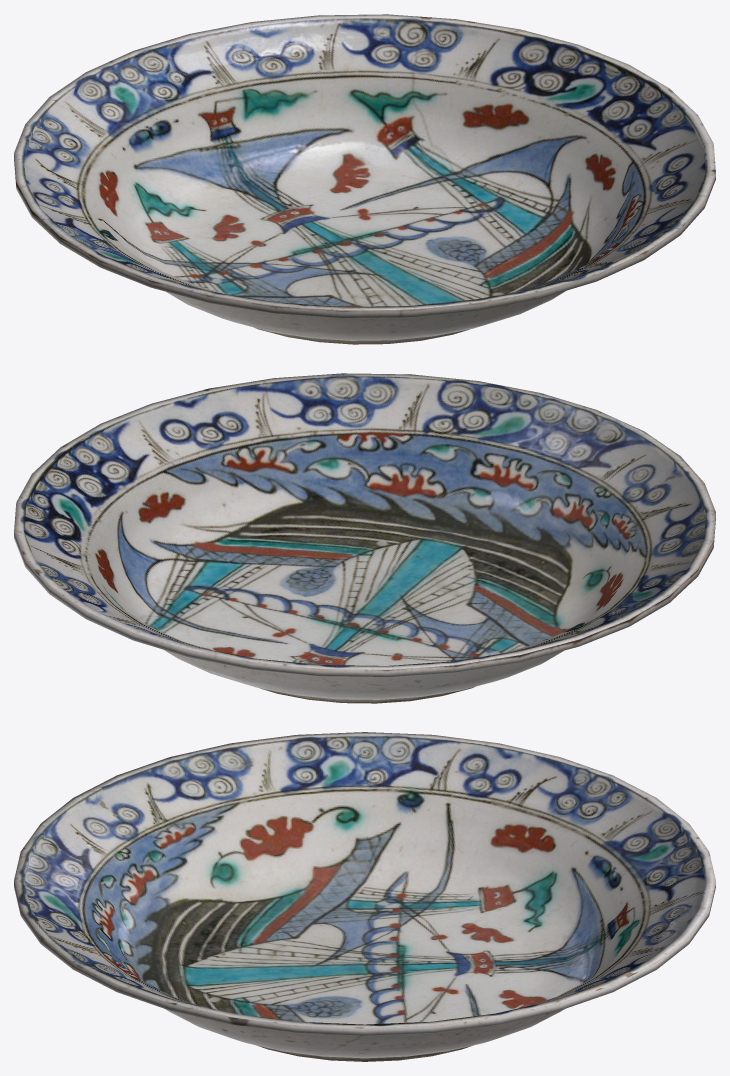
Rendered from dish.glb.
The picture shows the model from 3 angles, top to bottom: view 1: azimuth 30°, elevation 25°; view 2: azimuth 150°, elevation 25°; view 3: azimuth 270°, elevation 25°; orthographic projection.
Visible parts, largest first — view 1: Object_3, Object_2; view 2: Object_3, Object_2; view 3: Object_3, Object_2.
Boxes of the visible parts, x1,y1,x2,y2 form: Object_3: [14, 14, 715, 310]; Object_2: [14, 155, 715, 344]; Object_3: [14, 373, 715, 669]; Object_2: [14, 514, 715, 703]; Object_3: [14, 732, 715, 1028]; Object_2: [14, 881, 715, 1061].
Size of the model in its own units: 15.22 by 2.65 by 15.22.
2 materials, 2 textured.
